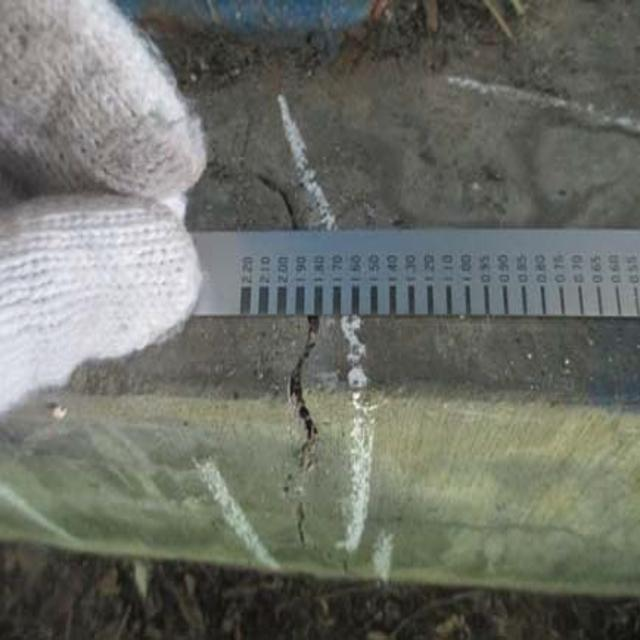crack: (234, 84, 310, 233), (279, 321, 327, 546)
